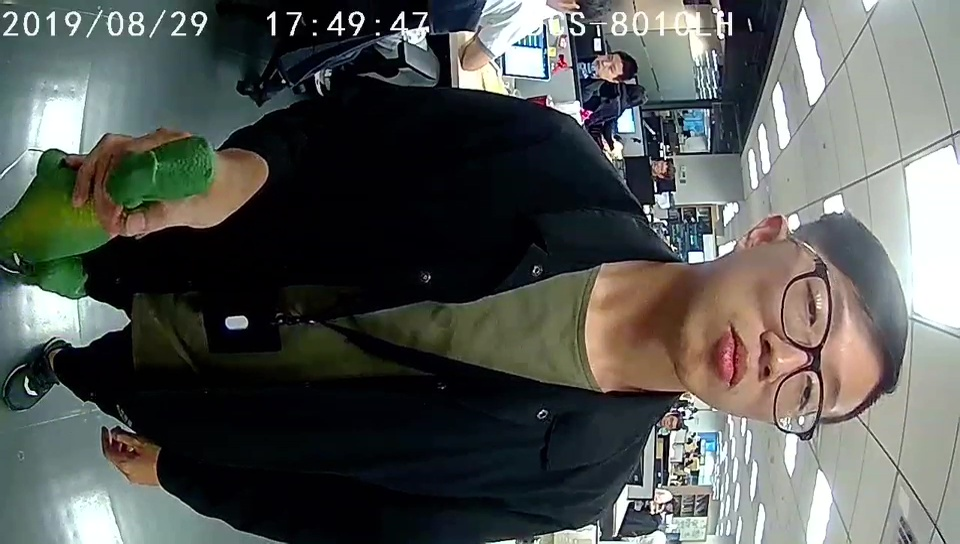rex: (1, 133, 218, 303)
